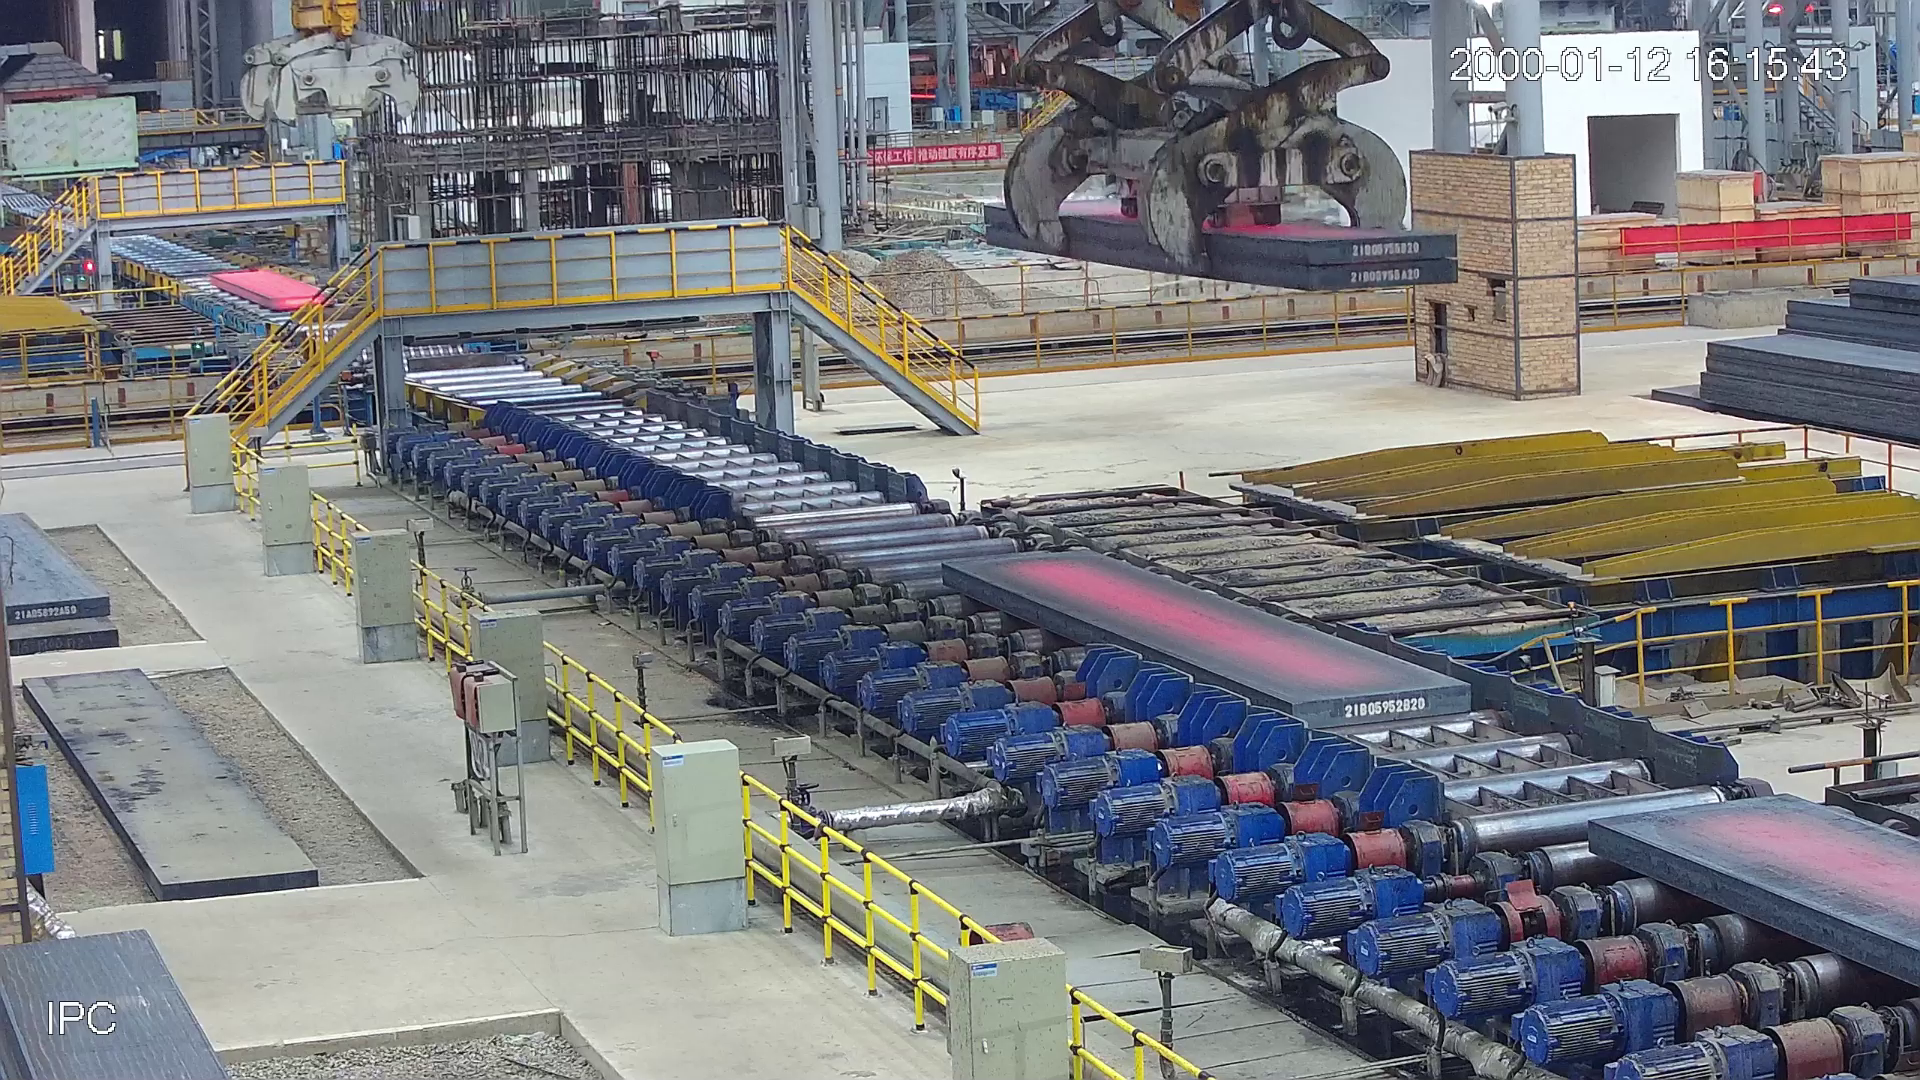crane: (236, 1, 419, 132)
craneandslab: (992, 3, 1452, 291)
slab: (942, 551, 1472, 732), (1586, 795, 1920, 978), (212, 272, 332, 313)
